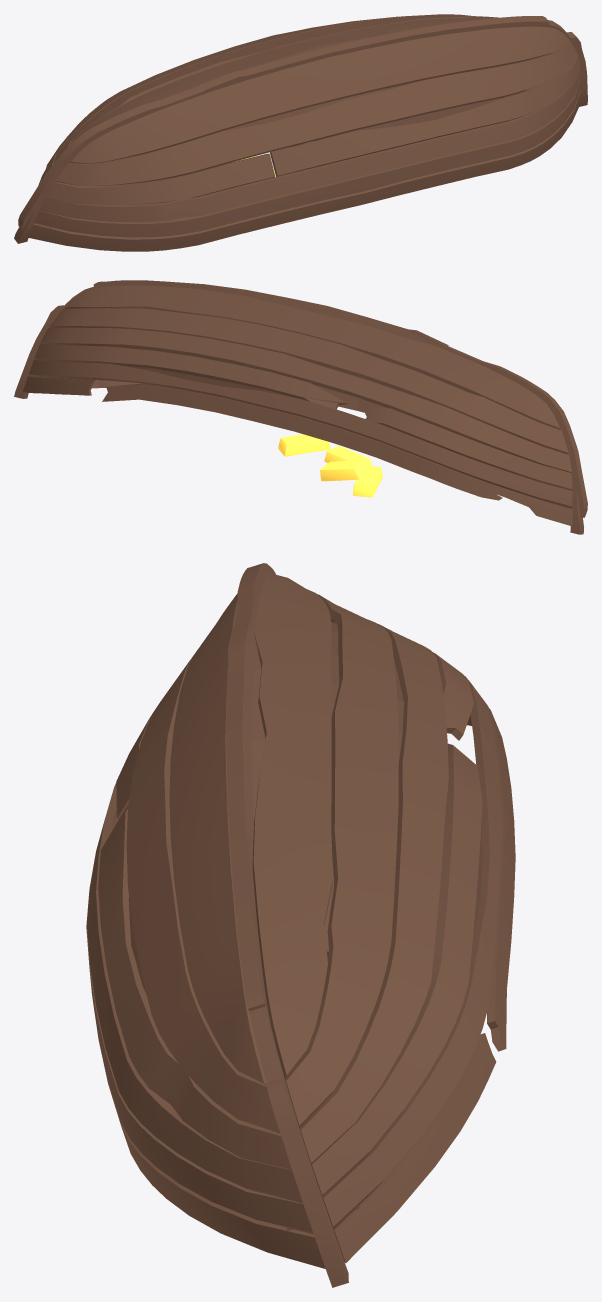
File: LifeBoat00.fbx
3 renders of one model, top to bottom at view 1: azimuth 30°, elevation 25°; view 2: azimuth 150°, elevation 25°; view 3: azimuth 270°, elevation 25°, orthographic. The views are drawn at different scales.
Visible parts, largest first — view 1: lifeboat; view 2: lifeboat; view 3: lifeboat.
Part boxes in pixels (left/top/right/bottom): lifeboat: left=14, top=14, right=587, bottom=251; lifeboat: left=14, top=280, right=587, bottom=534; lifeboat: left=86, top=563, right=515, bottom=1287.
Size of the model in its own units: 3.27 by 0.7868 by 1.07.
